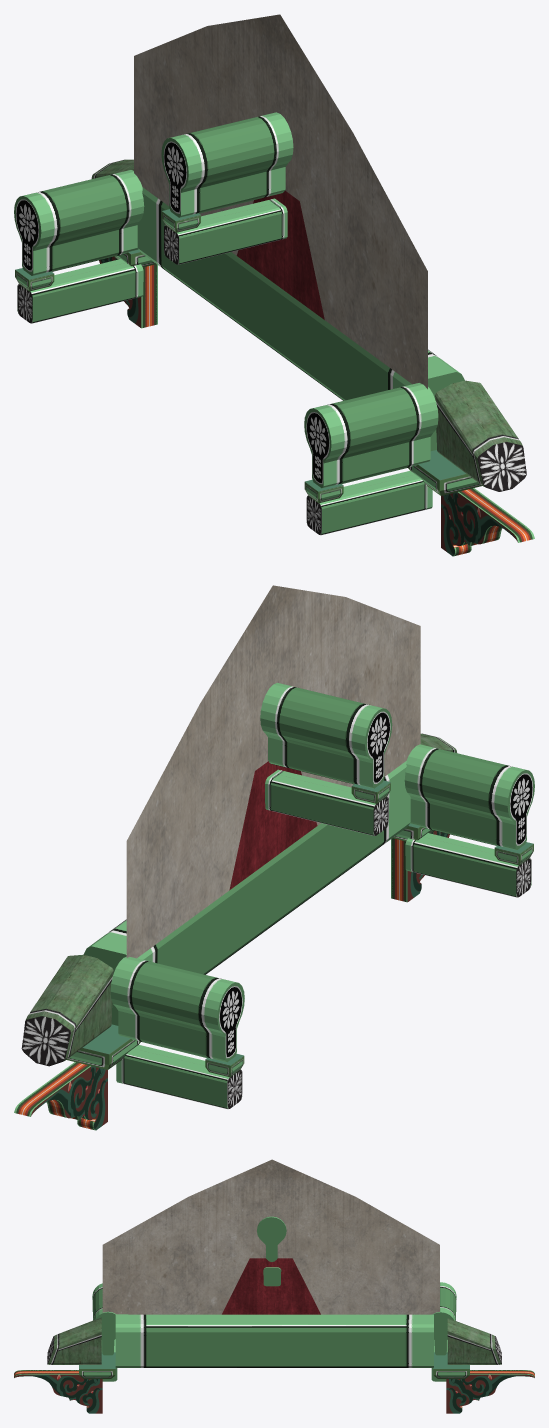
Rendered from SM_R_MiddleBeam_7.fbx.
3 views of the same model, one above another, from view 1: azimuth 30°, elevation 25°; view 2: azimuth 150°, elevation 25°; view 3: azimuth 270°, elevation 25° (orthographic). The views are drawn at different scales.
Parts seen in each view (by area): view 1: SM_R_MiddleBeam_7; view 2: SM_R_MiddleBeam_7; view 3: SM_R_MiddleBeam_7.
Boxes of the visible parts, bbox=[...] form: SM_R_MiddleBeam_7: bbox=[14, 14, 534, 556]; SM_R_MiddleBeam_7: bbox=[14, 585, 534, 1130]; SM_R_MiddleBeam_7: bbox=[14, 1159, 534, 1413].
Size of the model in its own units: 90.64 by 433 by 225.
6 materials, 6 textured.
